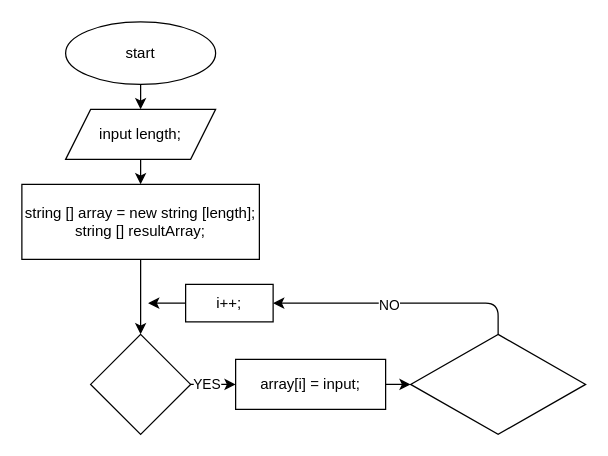
This 608x456 diagram has some shape labels left out. Here are the shapes that lost their labels. From the top down, the centre of each, then its label:
At point (140, 383): "i<length".
At point (497, 383): "array[i].Length<=3;".
